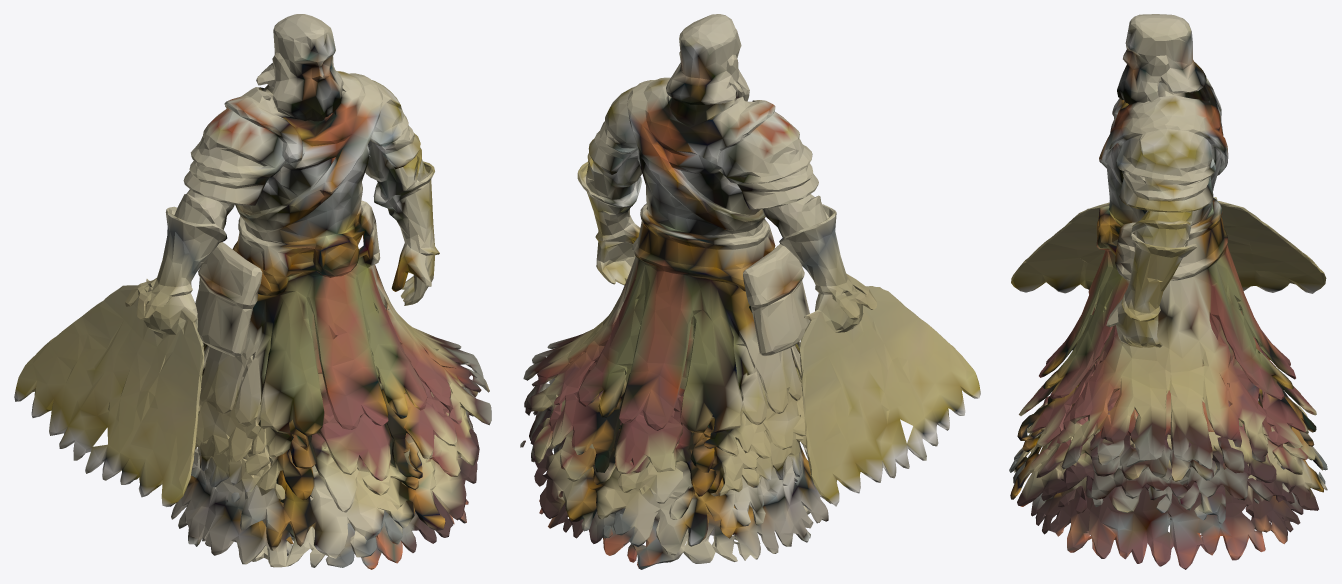
File: fox.glb
3 renders of one model, left to right at view 1: azimuth 30°, elevation 25°; view 2: azimuth 150°, elevation 25°; view 3: azimuth 270°, elevation 25°, orthographic. The views are drawn at different scales.
Parts seen in each view (by area): view 1: world; view 2: world; view 3: world.
Part boxes in pixels (x1,y1,x2,y2): world: [14, 14, 491, 569]; world: [520, 14, 980, 569]; world: [1009, 14, 1327, 569].
Size of the model in its own units: 0.8061 by 1 by 0.5924.
